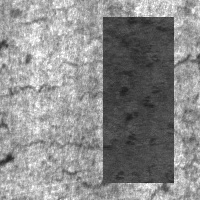crazing: (2, 52, 179, 152), (18, 127, 197, 192), (77, 23, 200, 83)
rolled-in_scale: (103, 17, 174, 183)
